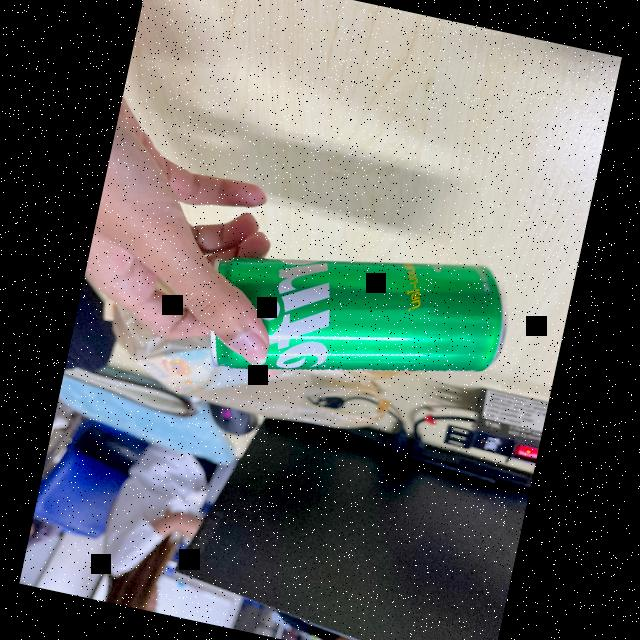can: (192, 198, 528, 442)
